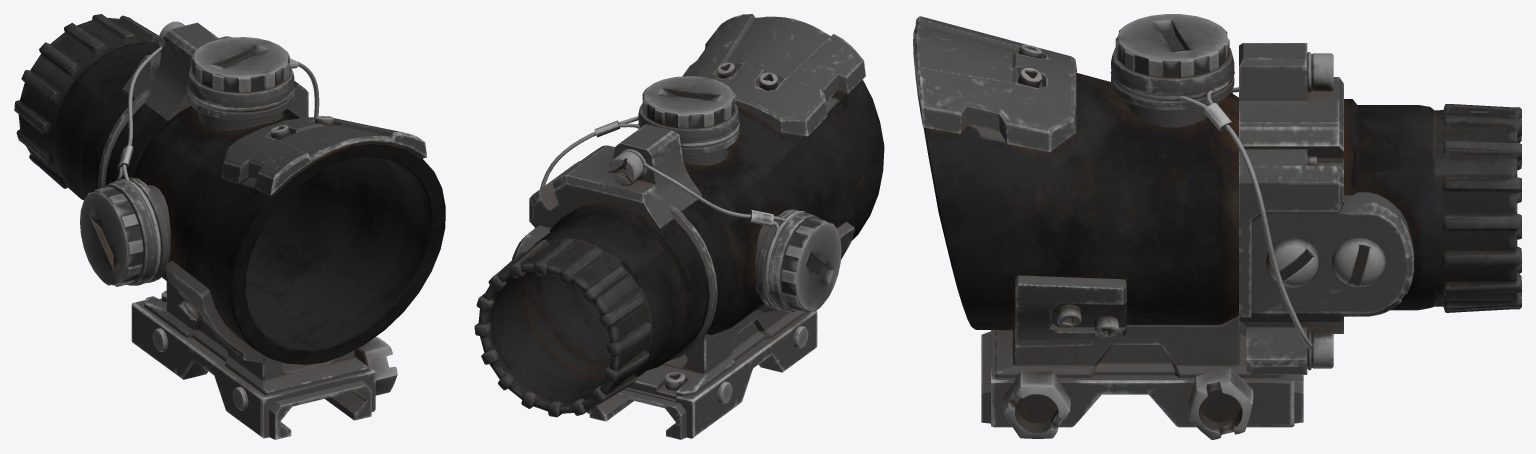
Rendered from Sight_3.glb.
3 renders of one model, left to right at view 1: azimuth 30°, elevation 25°; view 2: azimuth 150°, elevation 25°; view 3: azimuth 270°, elevation 25°, orthographic. The views are drawn at different scales.
Visible parts, largest first — view 1: Sight_3; view 2: Sight_3; view 3: Sight_3.
Boxes of the visible parts, left/top/right/bottom form: Sight_3: left=14, top=14, right=445, bottom=439; Sight_3: left=474, top=14, right=884, bottom=439; Sight_3: left=913, top=14, right=1521, bottom=439.
Size of the model in its own units: 0.0646 by 0.0749 by 0.115.
Materials: 1 (1 with a texture image).
